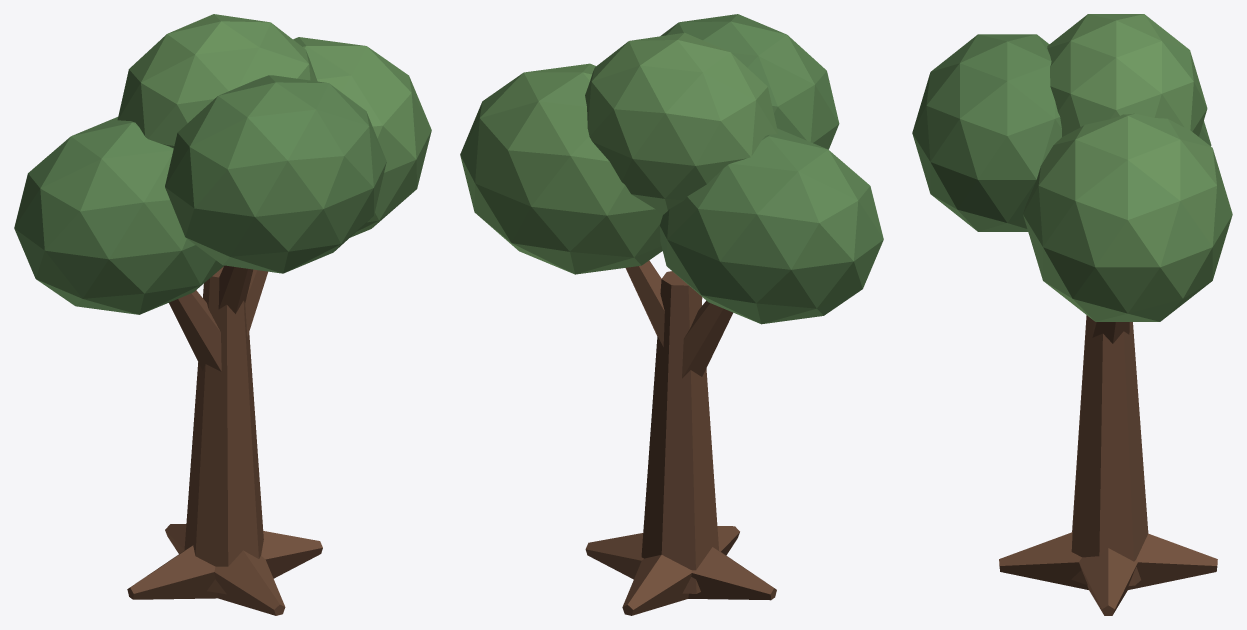
Rendered from xingyin-environment-v2__forest-trees__tree_default.glb.
3 renders of one model, left to right at view 1: azimuth 30°, elevation 25°; view 2: azimuth 150°, elevation 25°; view 3: azimuth 270°, elevation 25°, orthographic. The views are drawn at different scales.
Visible parts, largest first — view 1: tree_default; view 2: tree_default; view 3: tree_default.
Boxes of the visible parts, x1=… form: tree_default: x1=14, y1=14, x2=431, y2=615; tree_default: x1=460, y1=14, x2=883, y2=615; tree_default: x1=912, y1=14, x2=1232, y2=615.
Size of the model in its own units: 2.34 by 3.19 by 1.65.
